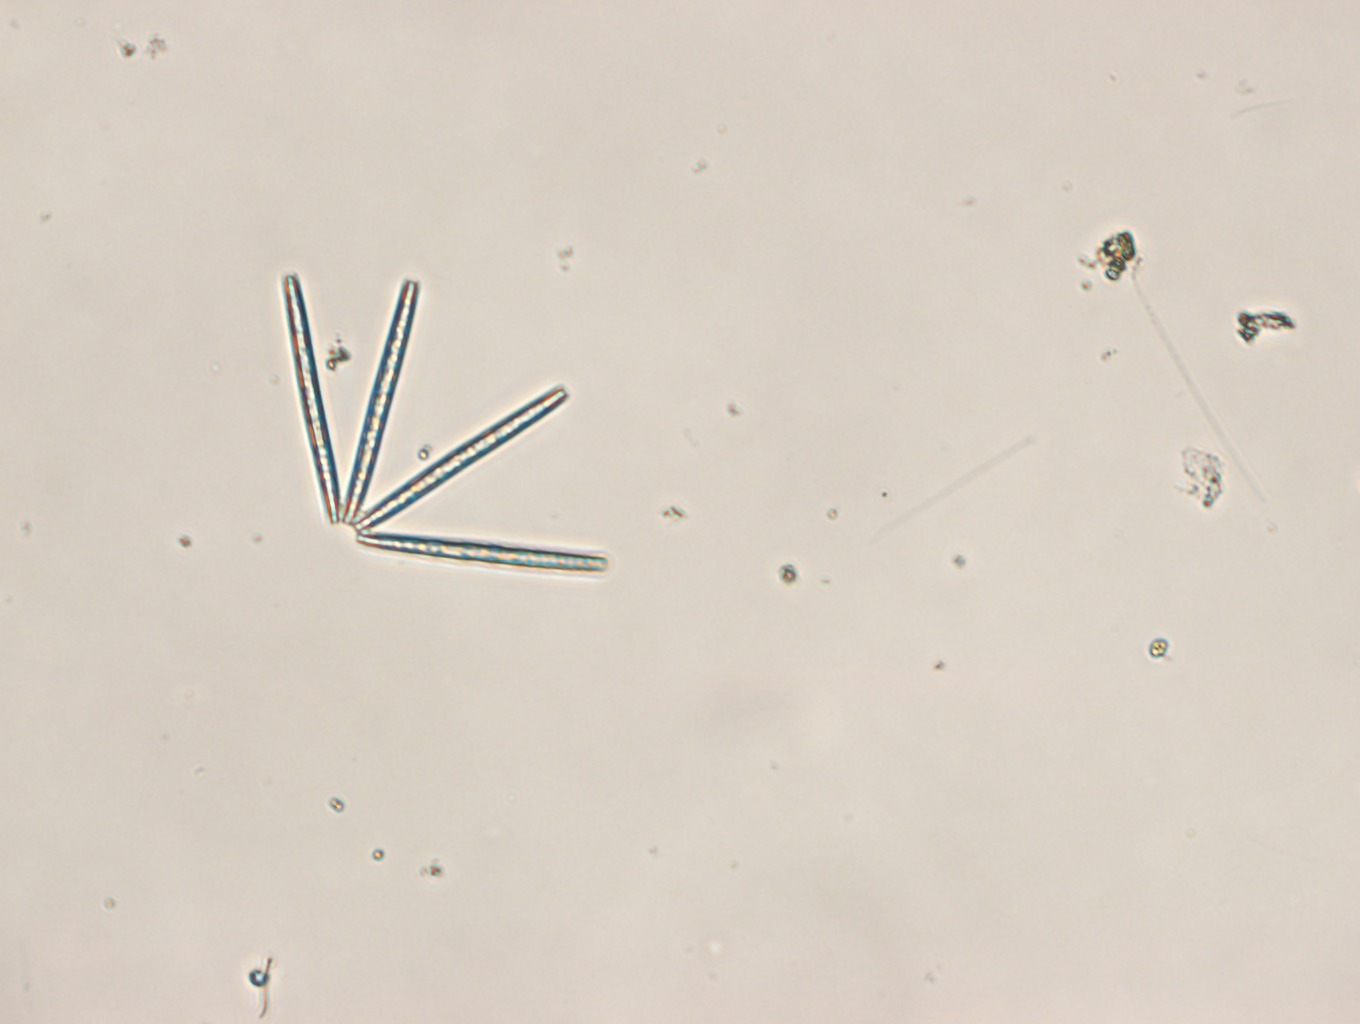thalassionema frauenfeldii: (283, 274, 611, 570)
